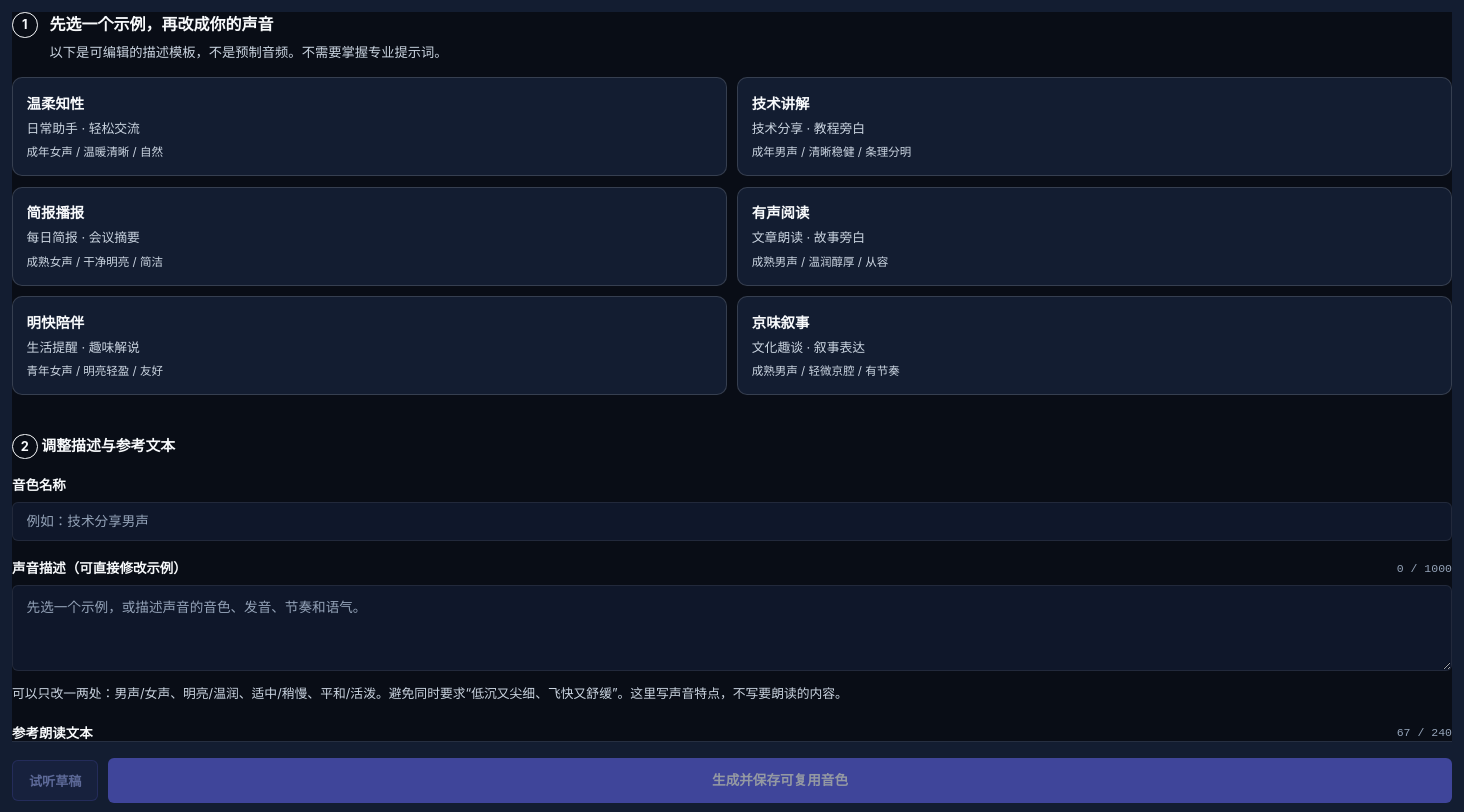
Test case: provides six editable use-case examples with explicit selection and a valid default reference
Click the button "温柔知性 日常助手 · 轻松交流 成年女声 / 温暖清晰 / 自然".
click(55, 103)  # box [12, 77, 727, 176]
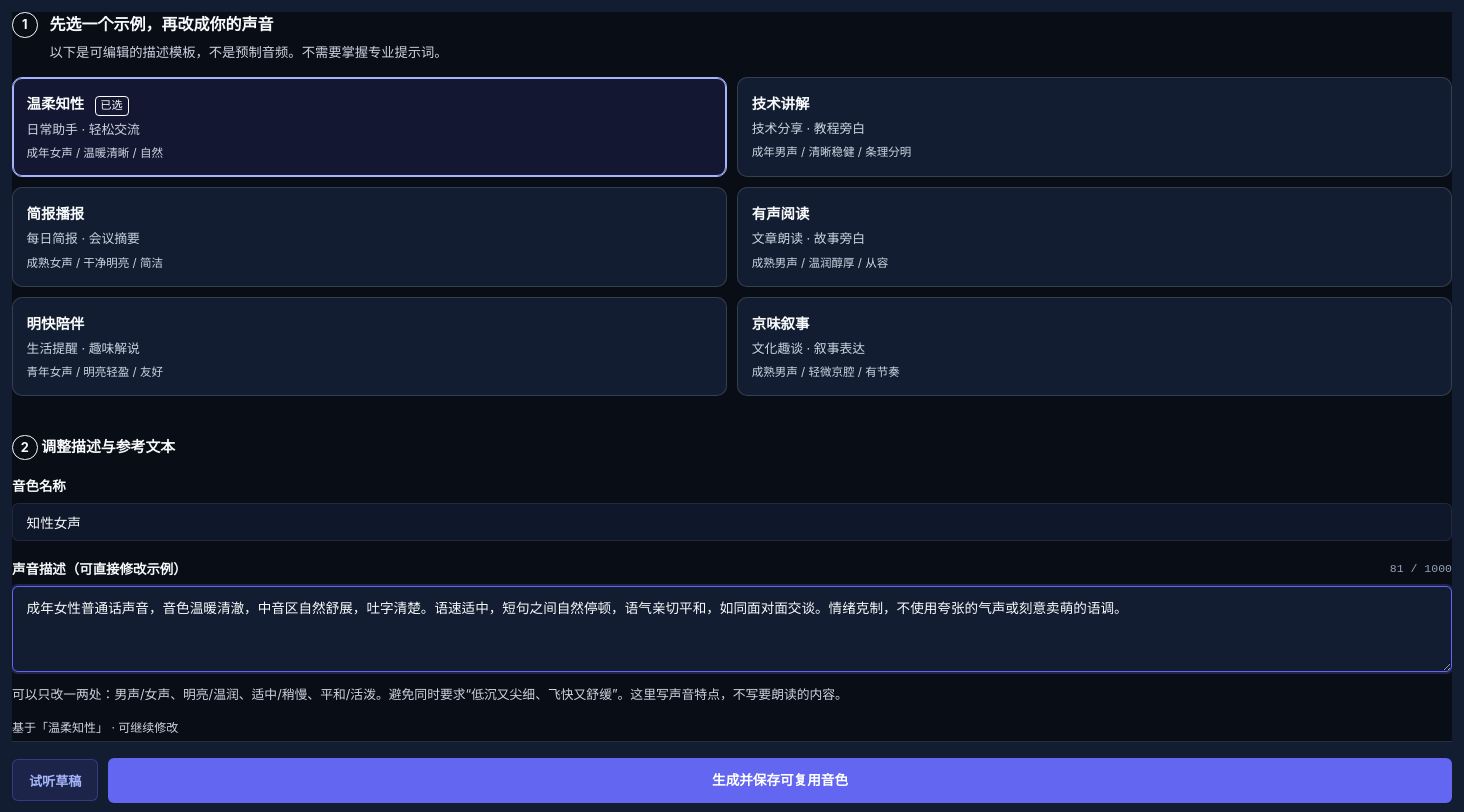
expect the text box with id "design-instruction-input" holds "成年女性普通话声音，音色温暖清澈，中音区自然舒展，吐字清楚。语速适中，短句之间自然停顿，语气亲切平和，如同面对面交谈。情绪克制，不使用夸张的气声或刻意卖萌的语调。": met, box [12, 586, 1452, 672]
Click the button "技术讲解 技术分享 · 教程旁白 成年男声 / 清晰稳健 / 条理分明".
click(781, 103)  # box [737, 77, 1452, 177]
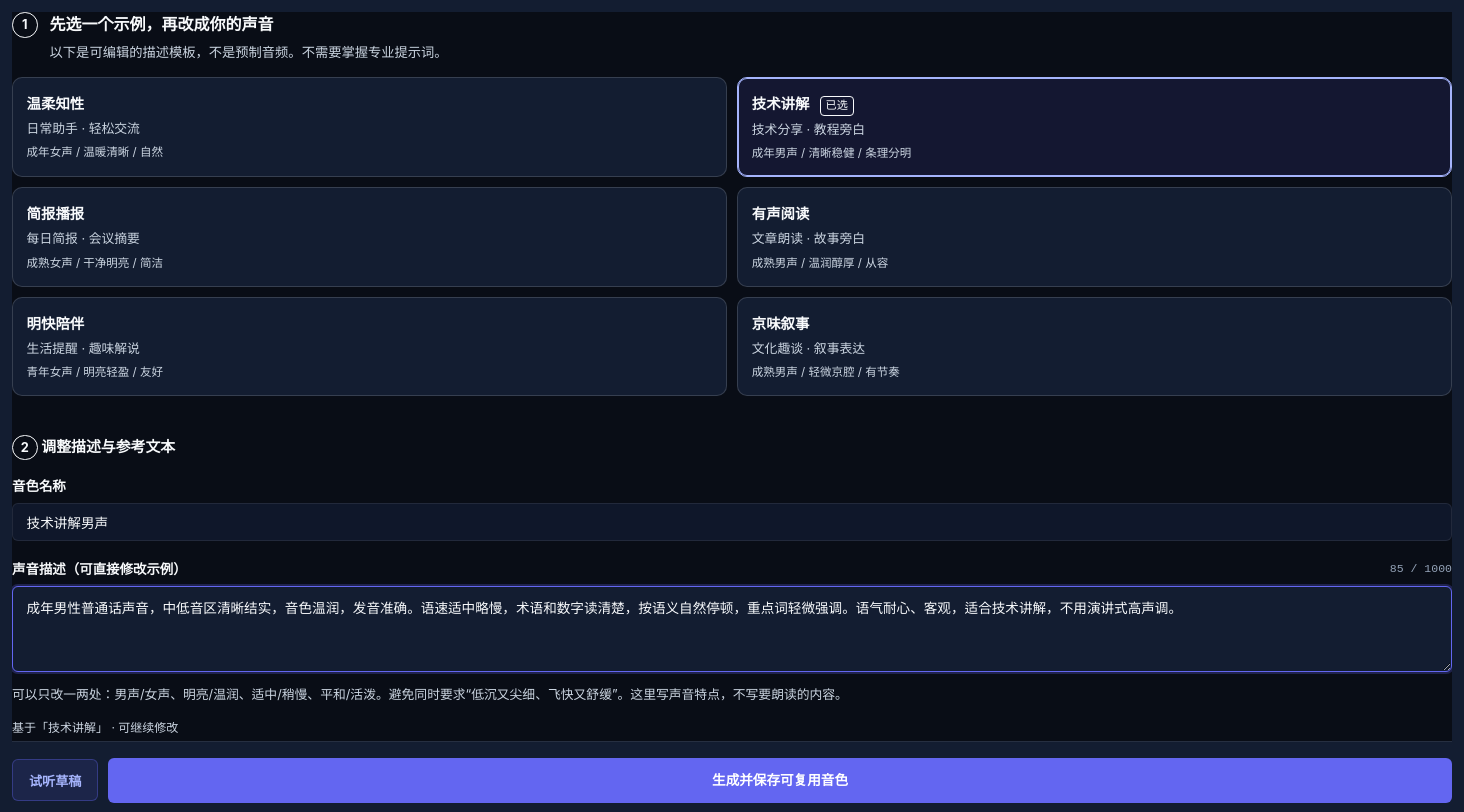
expect the text box with id "design-instruction-input" holds "成年男性普通话声音，中低音区清晰结实，音色温润，发音准确。语速适中略慢，术语和数字读清楚，按语义自然停顿，重点词轻微强调。语气耐心、客观，适合技术讲解，不用演讲式高声调。": met, box [12, 586, 1452, 672]
Click the button "简报播报 每日简报 · 会议摘要 成熟女声 / 干净明亮 / 简洁".
click(55, 214)  # box [12, 188, 727, 287]
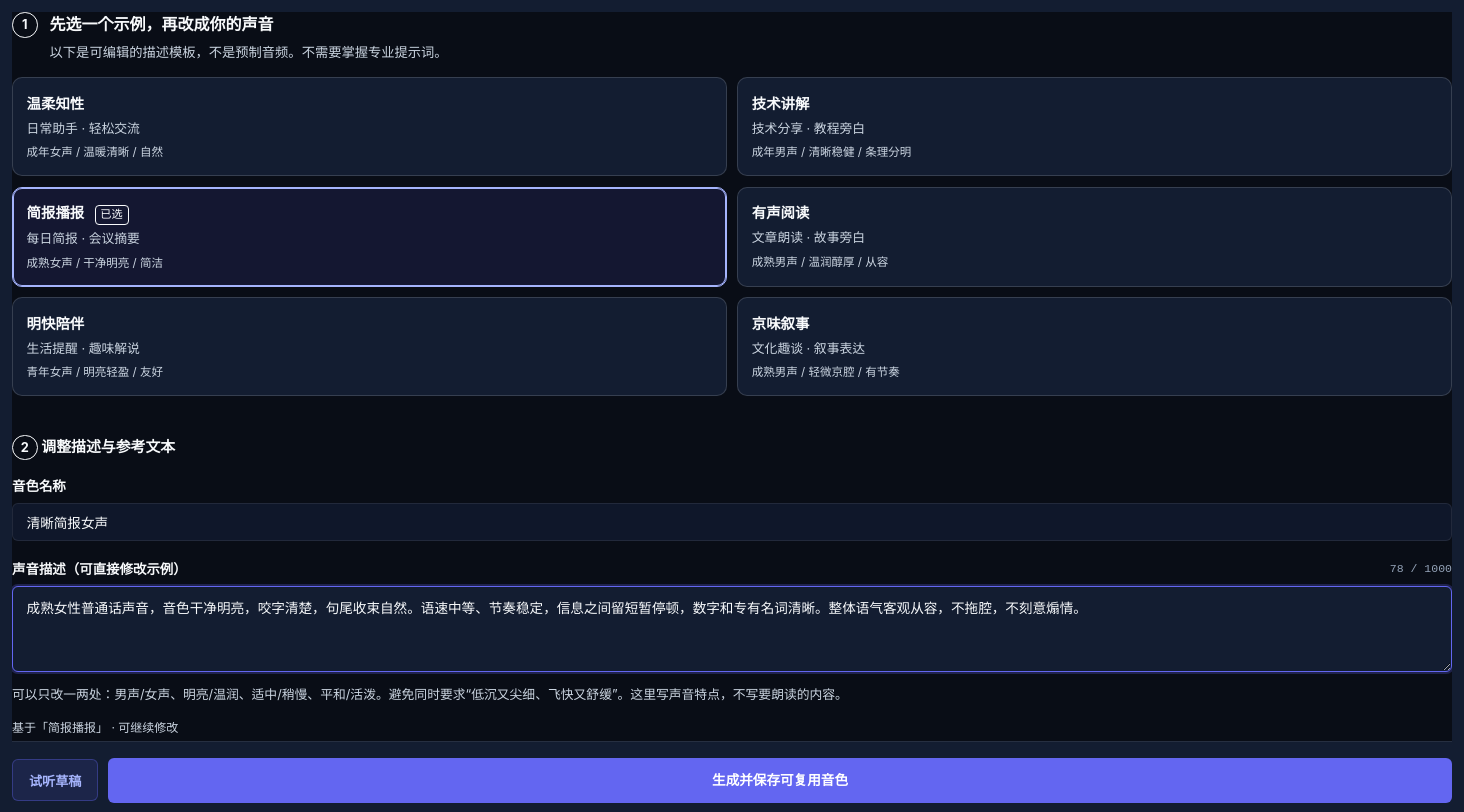
expect the text box with id "design-instruction-input" holds "成熟女性普通话声音，音色干净明亮，咬字清楚，句尾收束自然。语速中等、节奏稳定，信息之间留短暂停顿，数字和专有名词清晰。整体语气客观从容，不拖腔，不刻意煽情。": met, box [12, 586, 1452, 672]
Click the button "有声阅读 文章朗读 · 故事旁白 成熟男声 / 温润醇厚 / 从容".
click(781, 213)  # box [737, 187, 1452, 287]
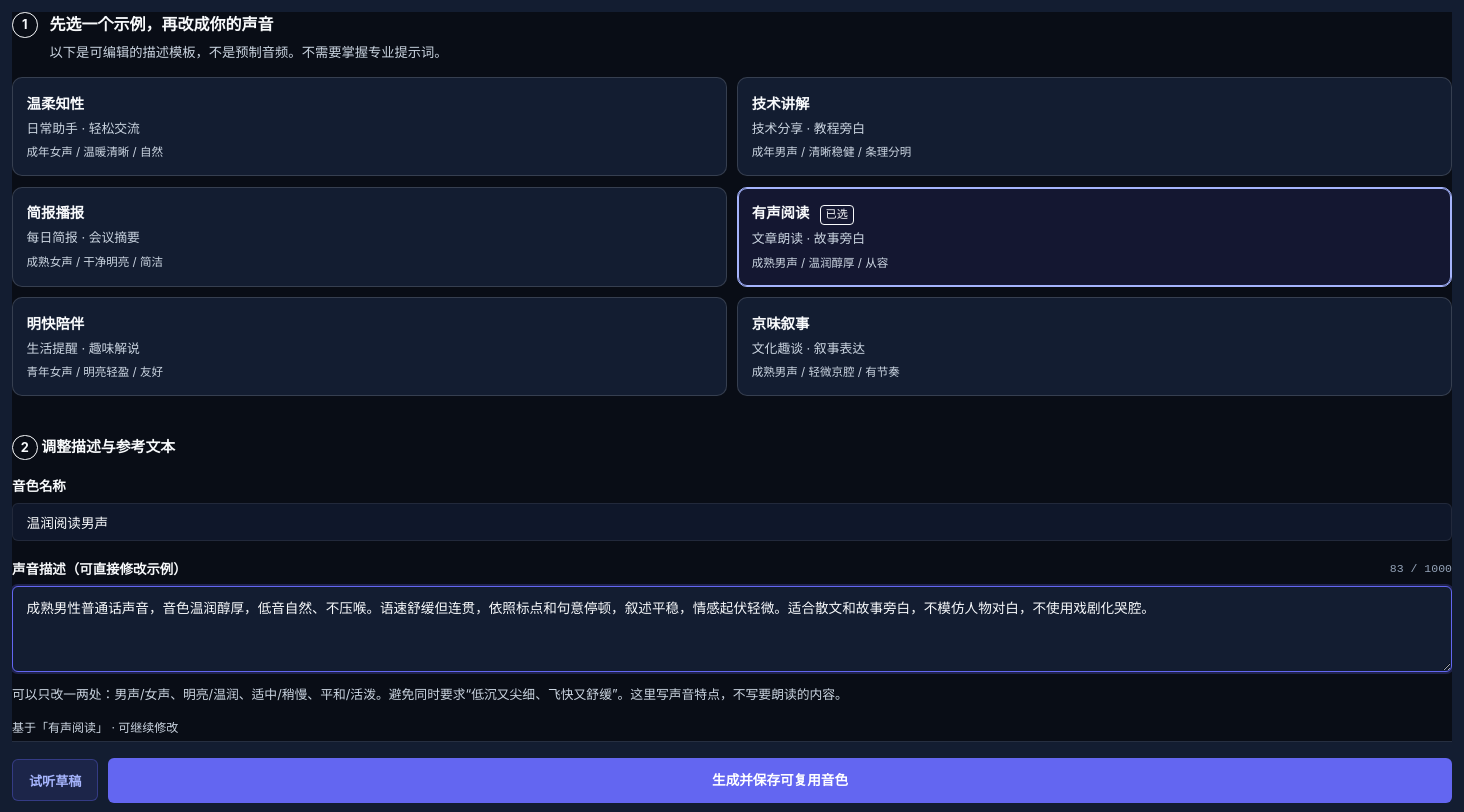
expect the text box with id "design-instruction-input" holds "成熟男性普通话声音，音色温润醇厚，低音自然、不压喉。语速舒缓但连贯，依照标点和句意停顿，叙述平稳，情感起伏轻微。适合散文和故事旁白，不模仿人物对白，不使用戏剧化哭腔。": met, box [12, 586, 1452, 672]
Click the button "明快陪伴 生活提醒 · 趣味解说 青年女声 / 明亮轻盈 / 友好".
click(55, 323)  # box [12, 297, 727, 396]
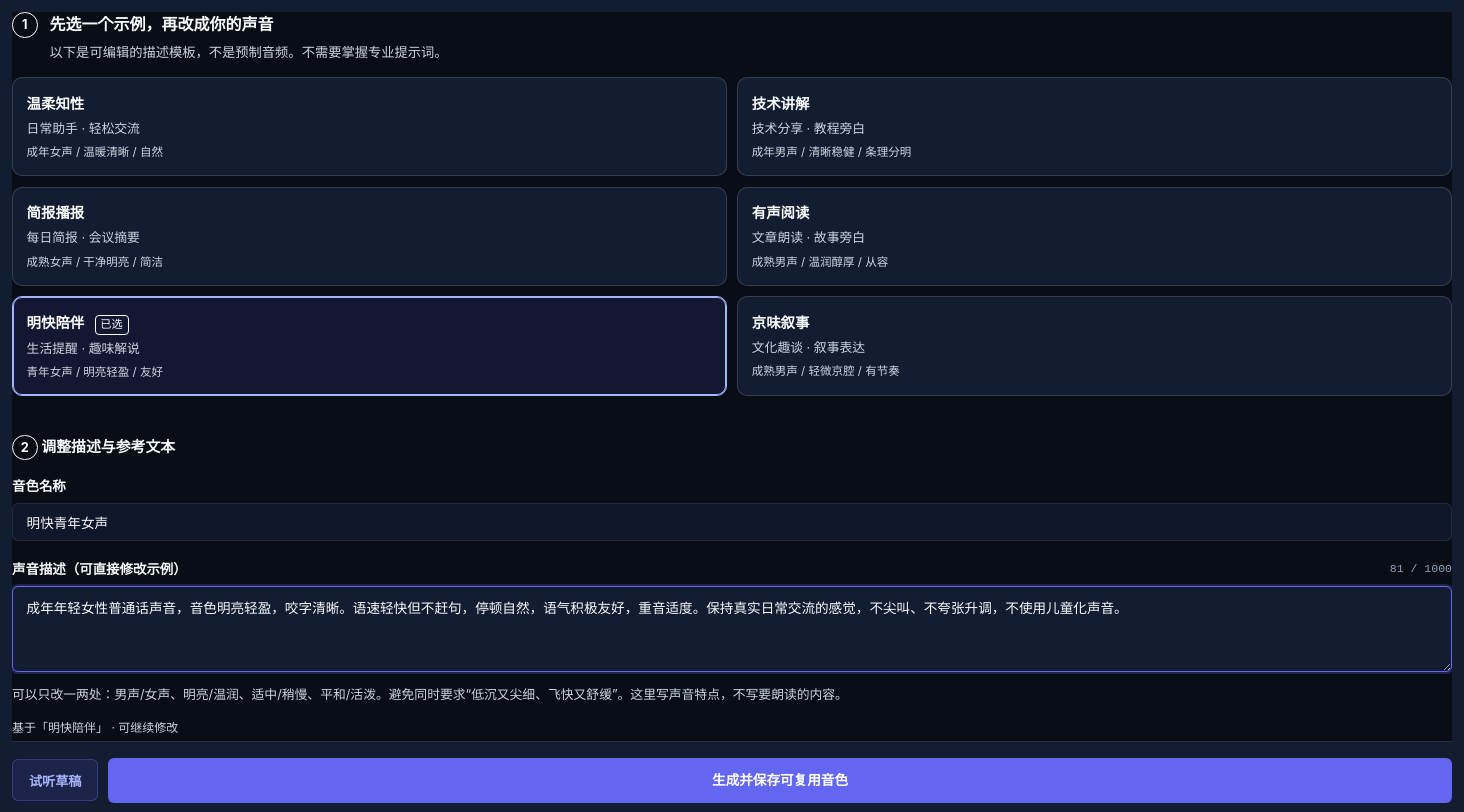
expect the text box with id "design-instruction-input" holds "成年年轻女性普通话声音，音色明亮轻盈，咬字清晰。语速轻快但不赶句，停顿自然，语气积极友好，重音适度。保持真实日常交流的感觉，不尖叫、不夸张升调，不使用儿童化声音。": met, box [12, 586, 1452, 672]
Click the button "京味叙事 文化趣谈 · 叙事表达 成熟男声 / 轻微京腔 / 有节奏".
click(781, 322)  # box [737, 296, 1452, 396]
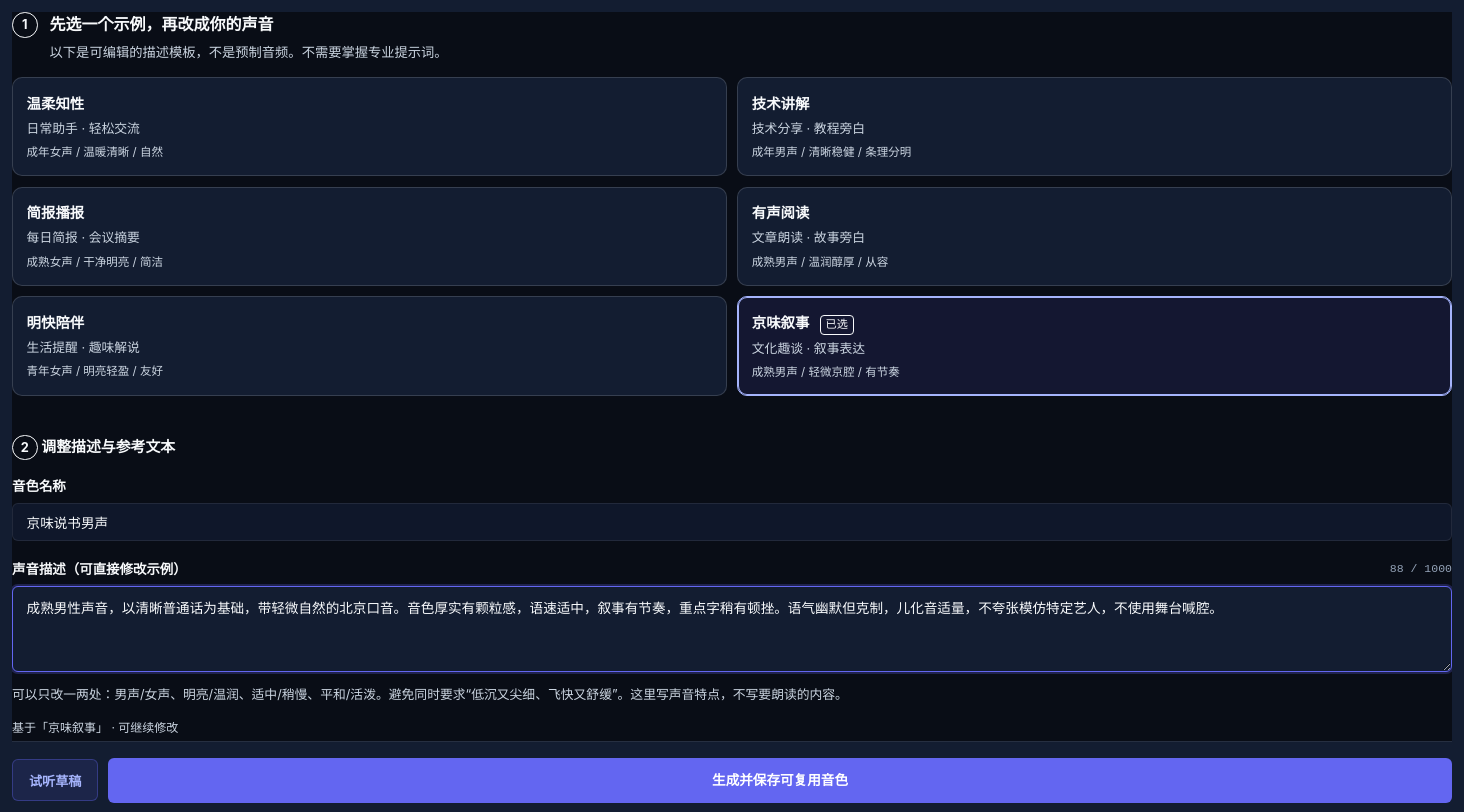
expect the text box with id "design-instruction-input" holds "成熟男性声音，以清晰普通话为基础，带轻微自然的北京口音。音色厚实有颗粒感，语速适中，叙事有节奏，重点字稍有顿挫。语气幽默但克制，儿化音适量，不夸张模仿特定艺人，不使用舞台喊腔。": met, box [12, 586, 1452, 672]
